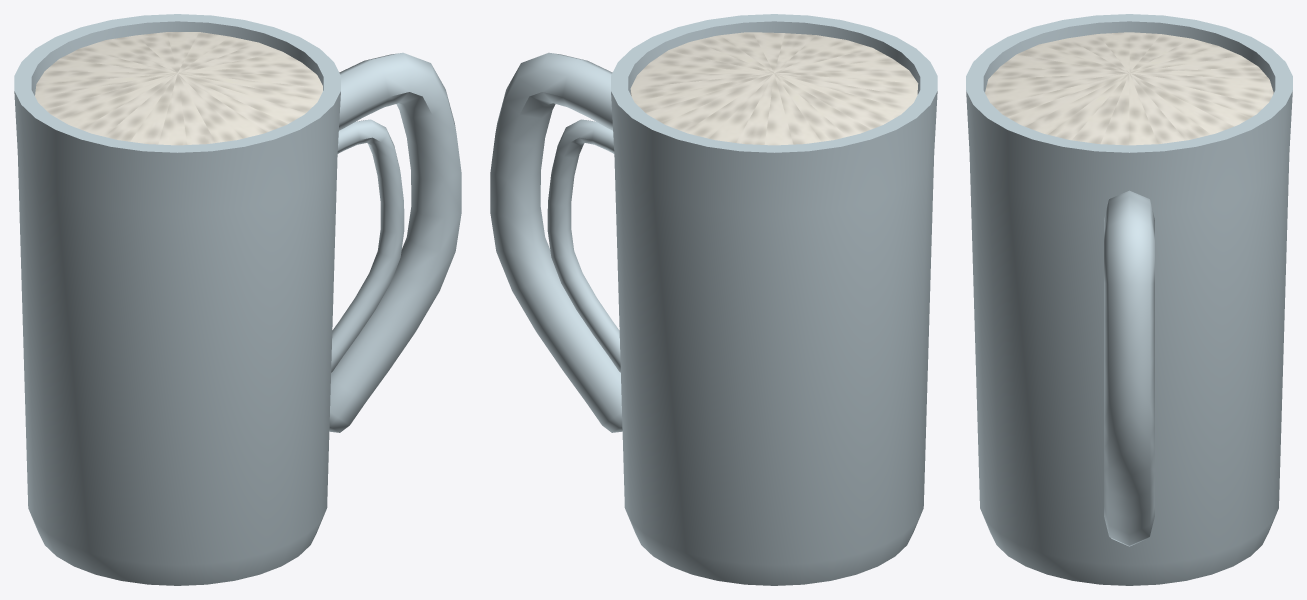
Rendered from cocktail_beer_mug_foam.glb.
3 views of the same model, side by side, from view 1: azimuth 30°, elevation 25°; view 2: azimuth 150°, elevation 25°; view 3: azimuth 270°, elevation 25° (orthographic).
Visible parts, largest first — view 1: cocktail_beer_mug_foam; view 2: cocktail_beer_mug_foam; view 3: cocktail_beer_mug_foam.
Part boxes in pixels (left/top/right/bottom): cocktail_beer_mug_foam: left=14, top=14, right=461, bottom=585; cocktail_beer_mug_foam: left=490, top=14, right=937, bottom=585; cocktail_beer_mug_foam: left=966, top=14, right=1292, bottom=585.
Size of the model in its own units: 0.1403 by 0.1432 by 0.0935.
Materials: 3 (1 with a texture image).
